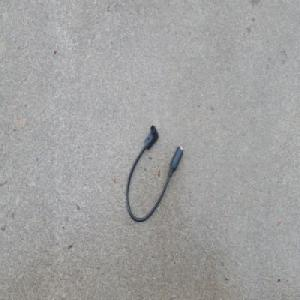Wire: (125, 123, 183, 222)
